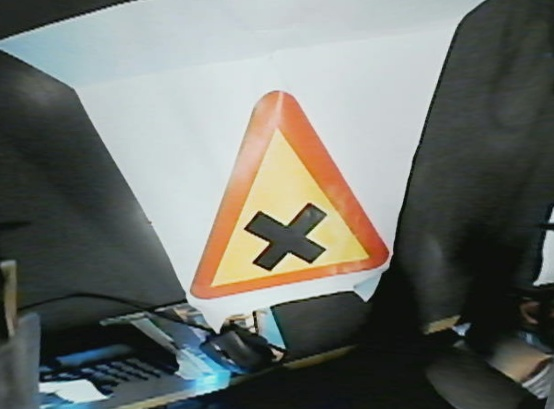junction: (164, 76, 395, 308)
